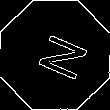N_NW: (24, 27, 86, 83)
